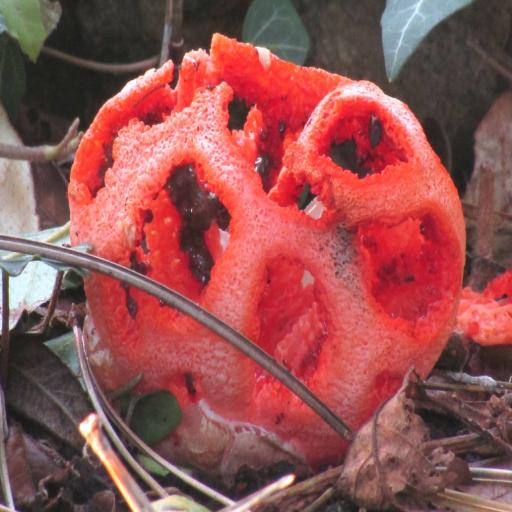Red Cage Fungus: (70, 26, 486, 472)
